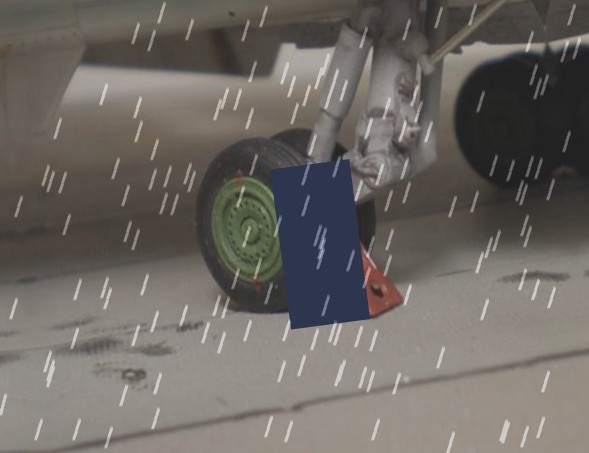chock: (281, 233, 407, 328)
wheel: (182, 128, 344, 322), (444, 50, 563, 199), (552, 36, 589, 185)
